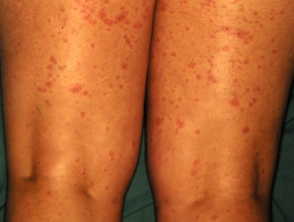SJS-TEN: (17, 0, 157, 151), (148, 0, 287, 147)
